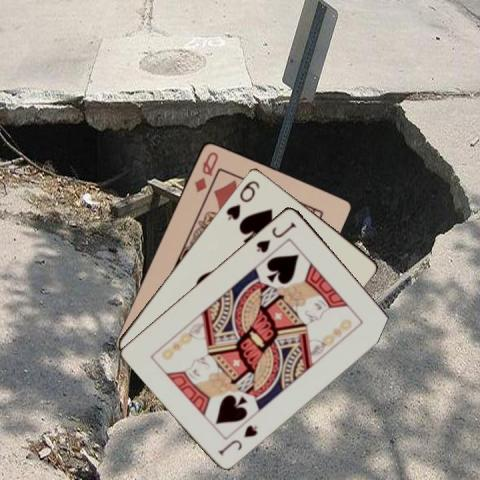6s: (223, 177, 261, 221)
Js: (253, 218, 297, 254), (216, 422, 260, 458)
Qd: (191, 148, 220, 193)
